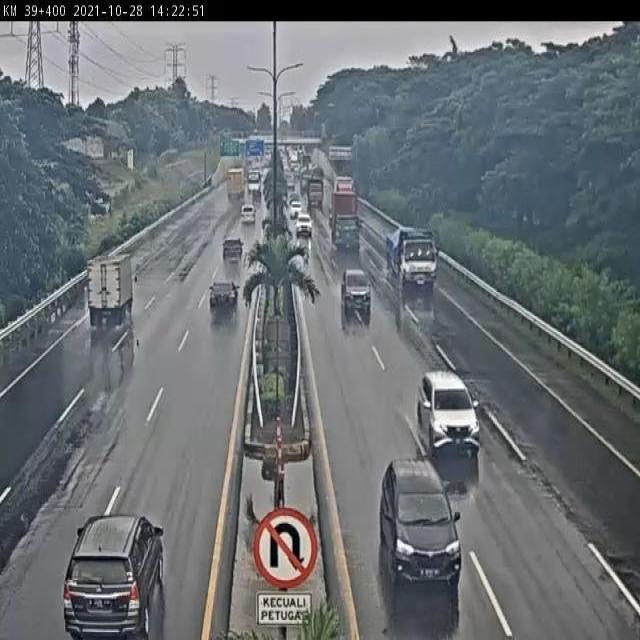Bus: (247, 170, 261, 193)
Car: (62, 514, 164, 638), (378, 460, 462, 592), (417, 370, 481, 470), (340, 268, 372, 330), (209, 281, 240, 319), (222, 236, 244, 261), (296, 213, 312, 237), (289, 197, 302, 218)
Truck: (384, 227, 438, 306), (86, 253, 133, 331), (329, 178, 359, 254), (225, 166, 245, 202), (305, 175, 324, 210)
Van: (241, 204, 256, 224)
